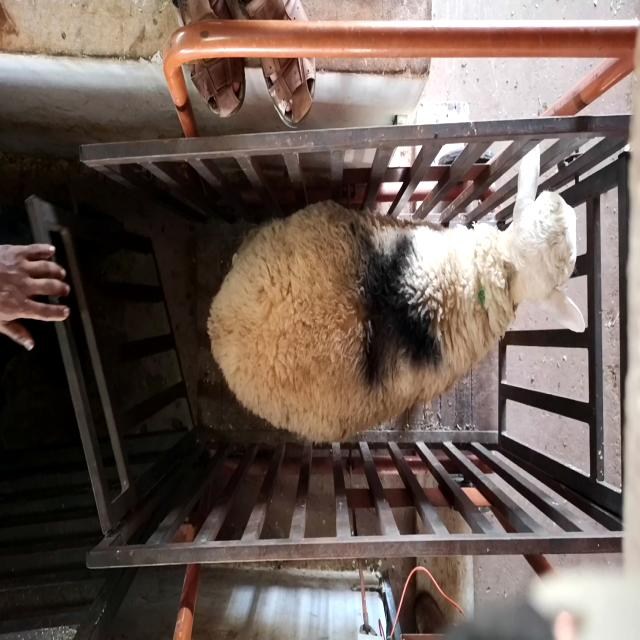sheep: (207, 143, 585, 445)
